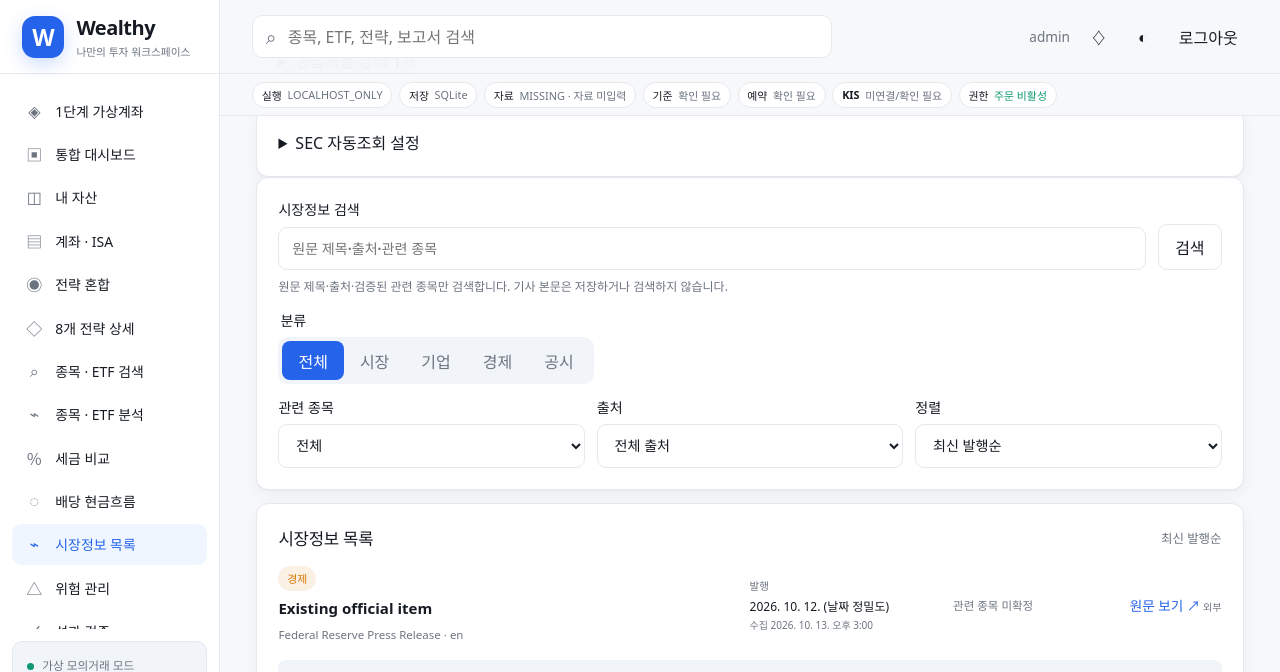
Test: 미국 시장정보 화면 › 새 정보가 와도 읽던 목록과 필터를 유지하고 사용자가 반영할 때만 바꾼다
(page scrolled)
Expected: the heading "Existing official item" is shown, [278,598,432,618]
Click the button "경제": [498, 361] box [467,341,528,380]
(page scrolled)
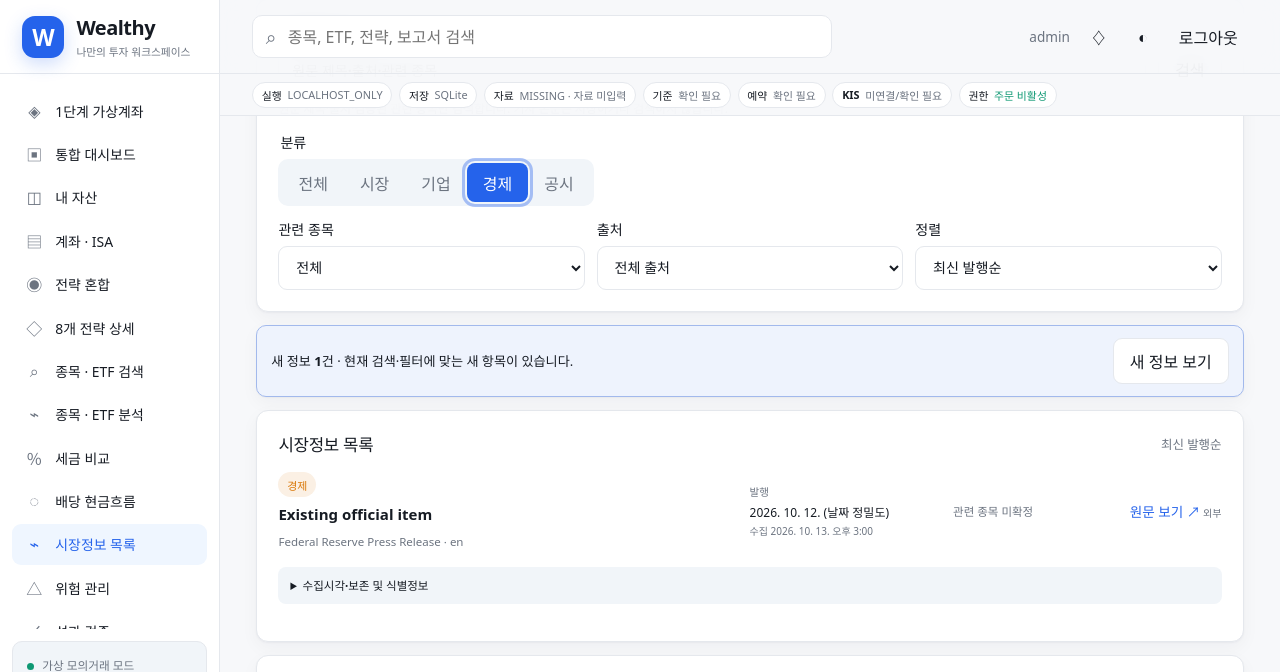
Expected: the text "New official item" is not shown
Expected: the text "새 정보 1건" is shown, [271,352,334,370]
Click the button "새 정보 보기": [1171, 361] box [1113,338,1229,384]
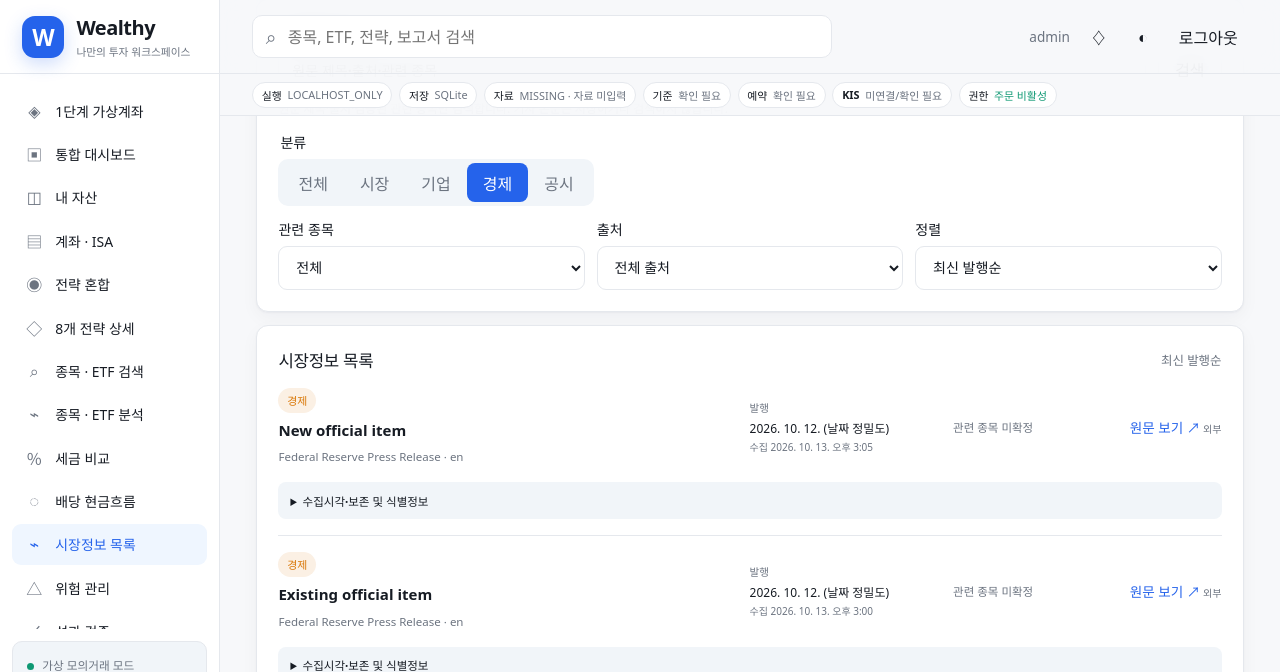
Expected: the heading "New official item" is shown, [278,420,406,440]
Expected: the text "새 정보 1건" is gone
